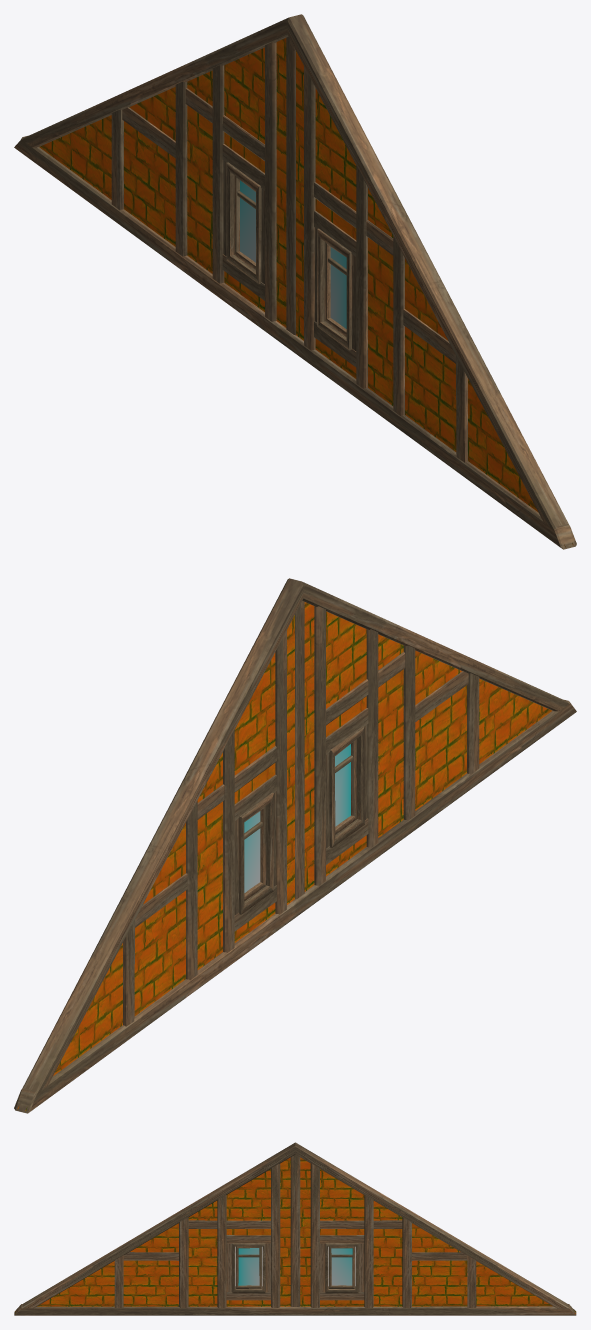
File: SM_wall_roof_02.fbx
3 renders of one model, top to bottom at view 1: azimuth 30°, elevation 25°; view 2: azimuth 150°, elevation 25°; view 3: azimuth 270°, elevation 25°, orthographic. The views are drawn at different scales.
Parts seen in each view (by area): view 1: SM_wall_roof_02_LOD0; view 2: SM_wall_roof_02_LOD0; view 3: SM_wall_roof_02_LOD0.
Boxes of the visible parts, left/top/right/bottom form: SM_wall_roof_02_LOD0: left=14, top=14, right=576, bottom=549; SM_wall_roof_02_LOD0: left=14, top=578, right=576, bottom=1113; SM_wall_roof_02_LOD0: left=14, top=1142, right=576, bottom=1315.
Bounding box in the file's own units: 20.07 × 1200 × 400.
